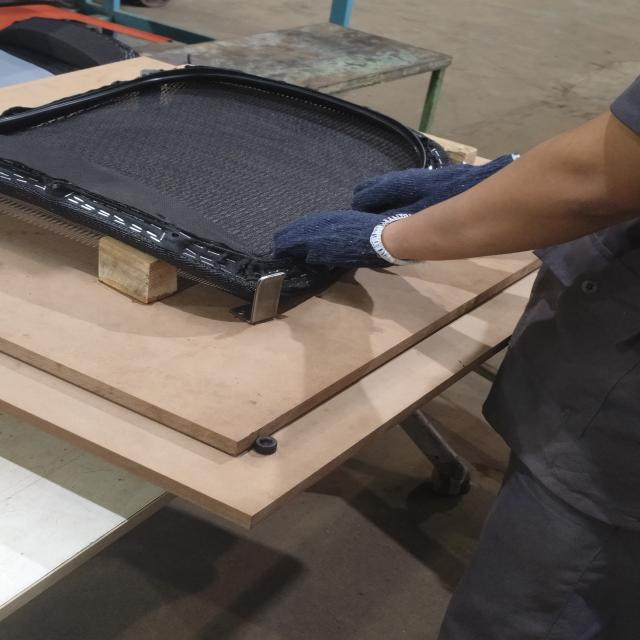Gloves-Detection: (280, 216, 400, 289), (362, 178, 492, 216)
